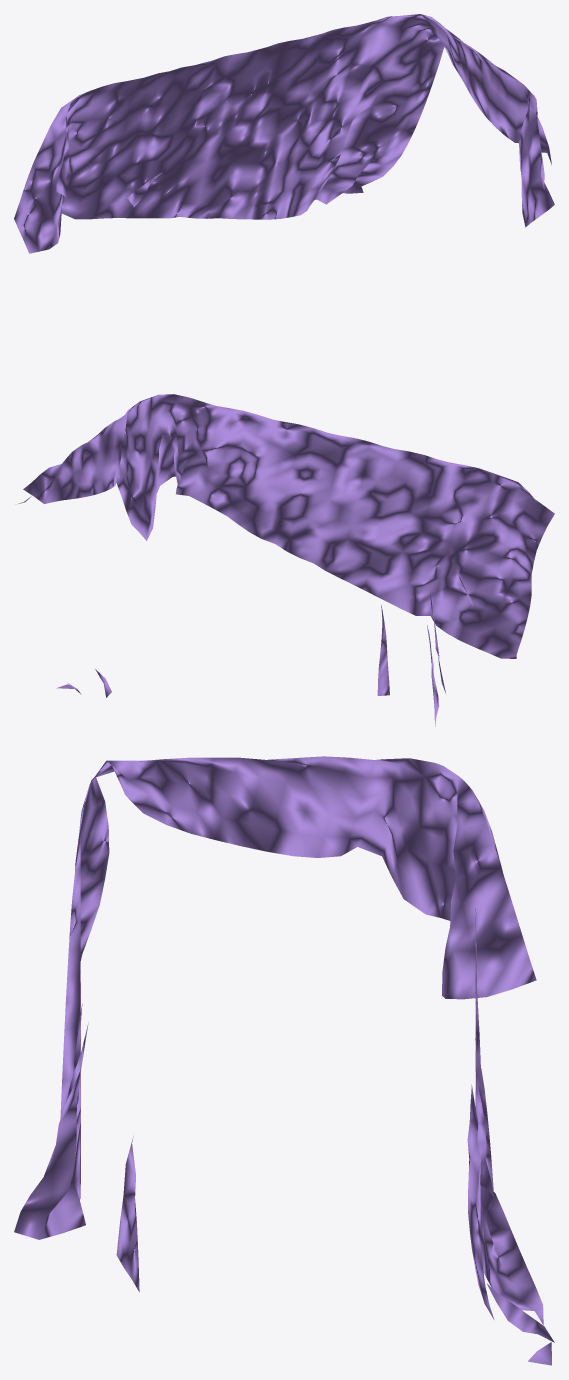
The model's file is crate_armour_1_tarp_a.glb.
3 views of the same model, one above another, from view 1: azimuth 30°, elevation 25°; view 2: azimuth 150°, elevation 25°; view 3: azimuth 270°, elevation 25° (orthographic). The views are drawn at different scales.
Size of the model in its own units: 1.81 by 0.7714 by 1.12.
